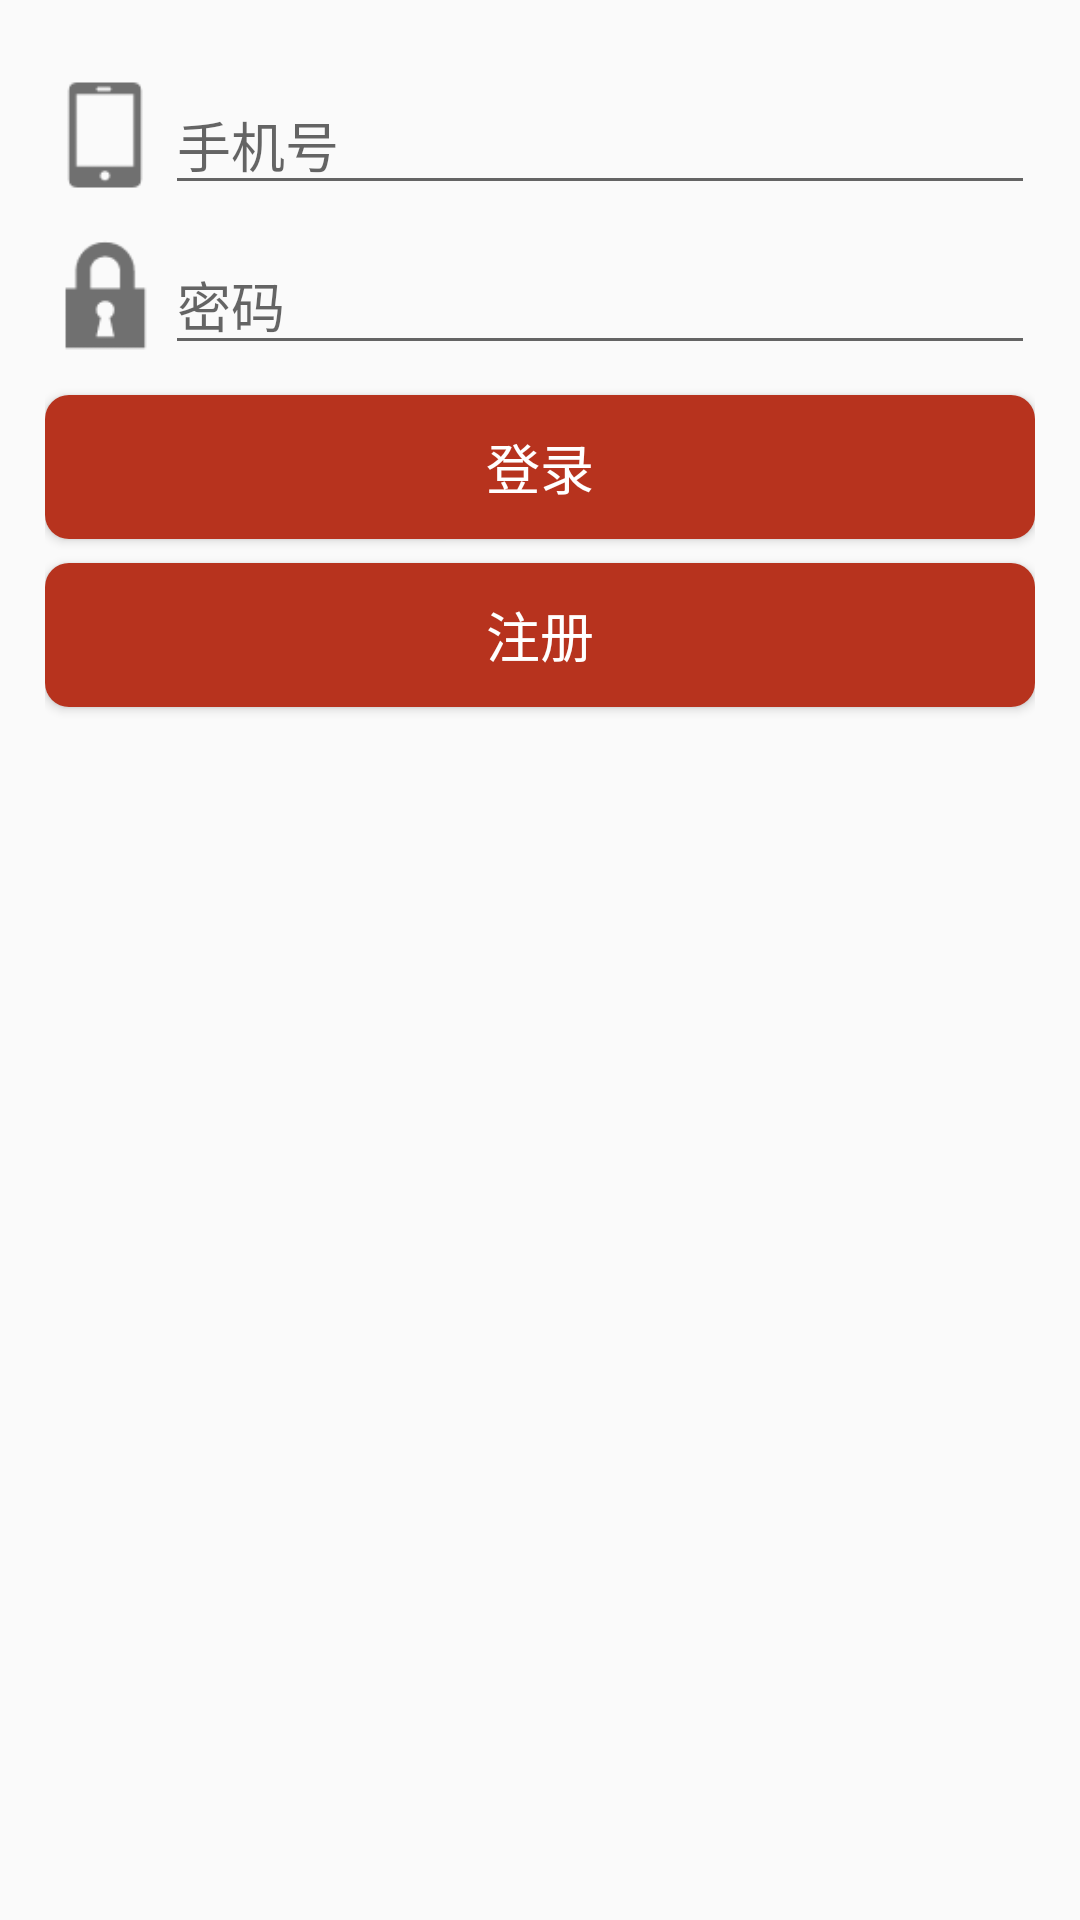

Icon bounding boxes for this 1080px x 1920px phone screenshot, format (x1,y1,x2,y2):
password: (65,242,146,349)
telephone: (68,82,142,188)
